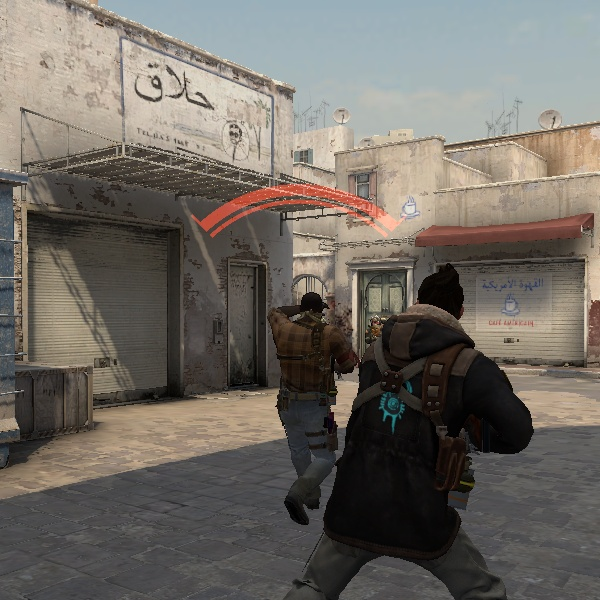t_body: (281, 266, 561, 596)
t_head: (358, 256, 489, 391)
